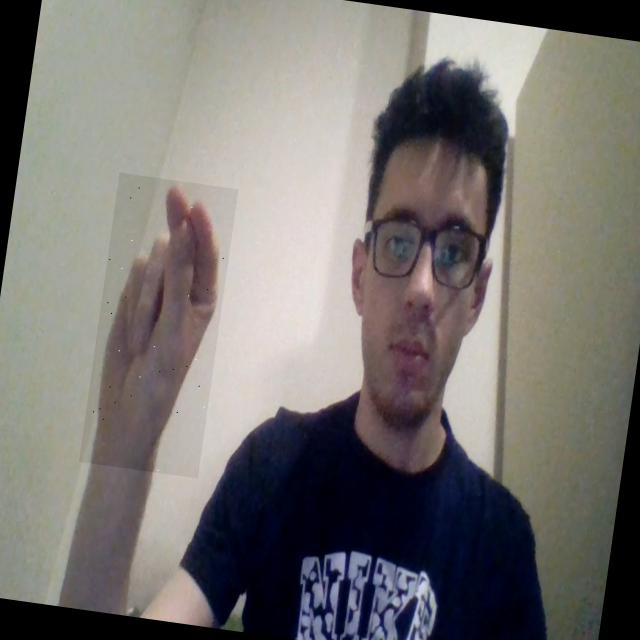no: (79, 172, 238, 478)
